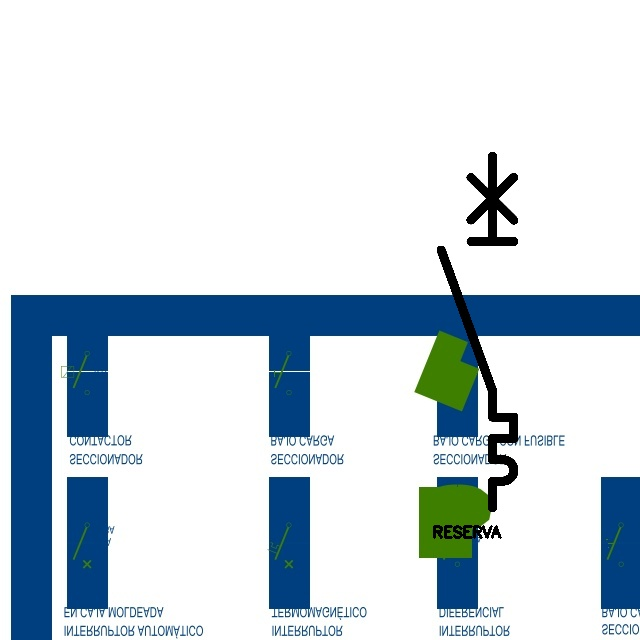interruptor_termomagnetico: (432, 147, 523, 517)
